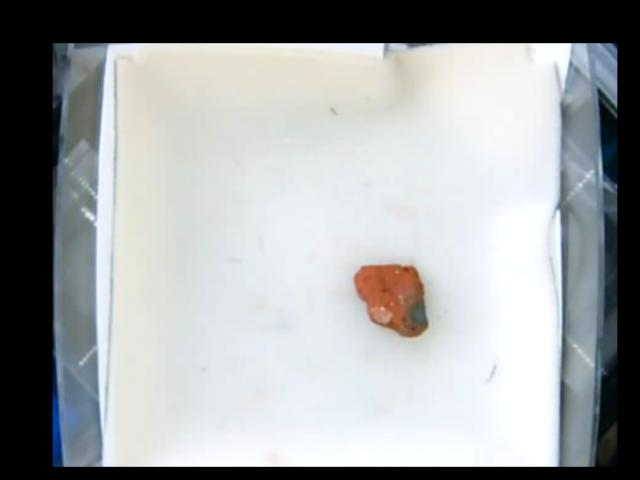Brisk: (351, 264, 430, 337)
